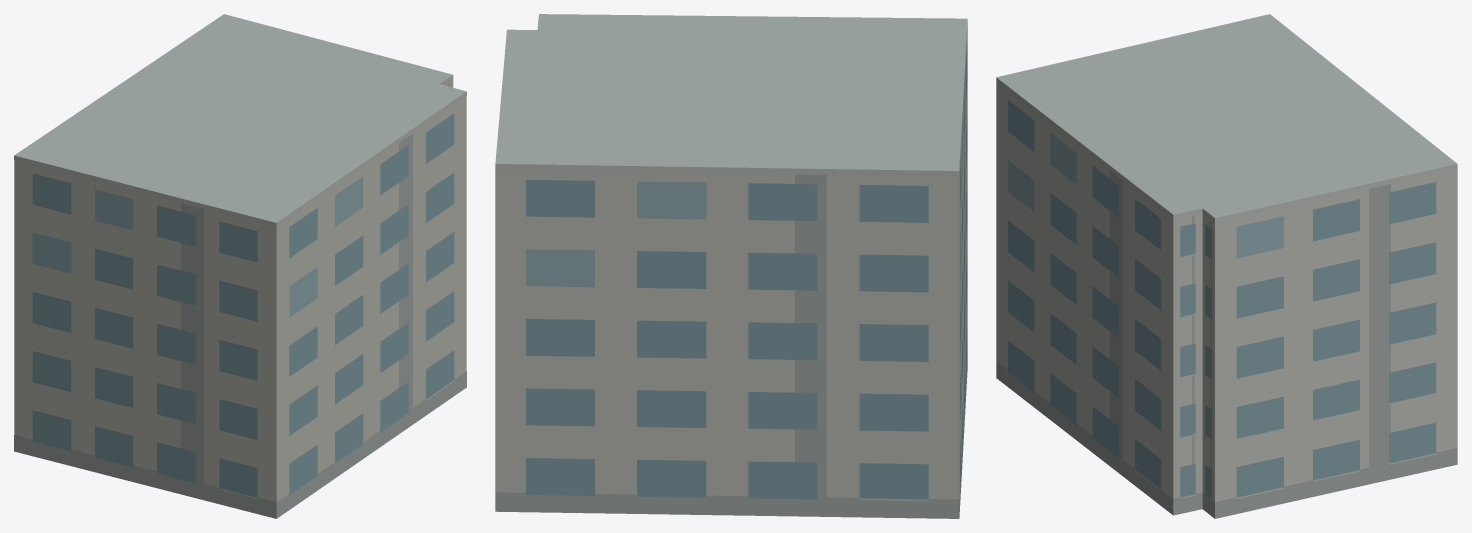
Rendered from survey-upis-32885850.glb.
3 views of the same model, side by side, from view 1: azimuth 30°, elevation 25°; view 2: azimuth 150°, elevation 25°; view 3: azimuth 270°, elevation 25° (orthographic). The views are drawn at different scales.
Visible parts, largest first — view 1: survey-upis-32885850.tmp; view 2: survey-upis-32885850.tmp; view 3: survey-upis-32885850.tmp.
Boxes of the visible parts, x1=… form: survey-upis-32885850.tmp: x1=14, y1=14, x2=466, y2=518; survey-upis-32885850.tmp: x1=495, y1=14, x2=967, y2=518; survey-upis-32885850.tmp: x1=996, y1=14, x2=1457, y2=518.
Bounding box in the file's own units: 20.99 × 14.4 × 20.04.
